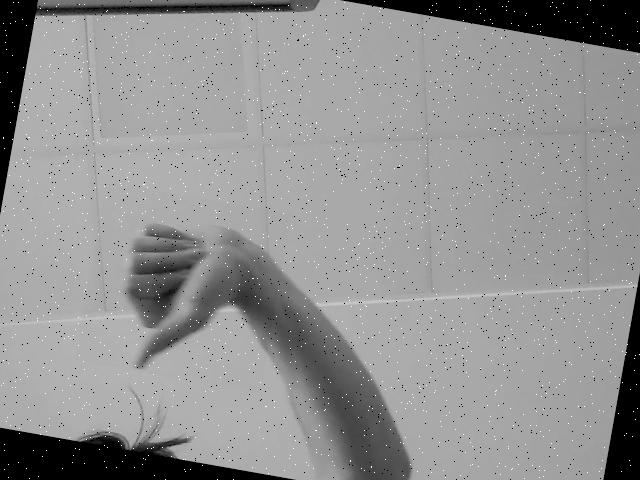bad: (75, 181, 292, 393)
